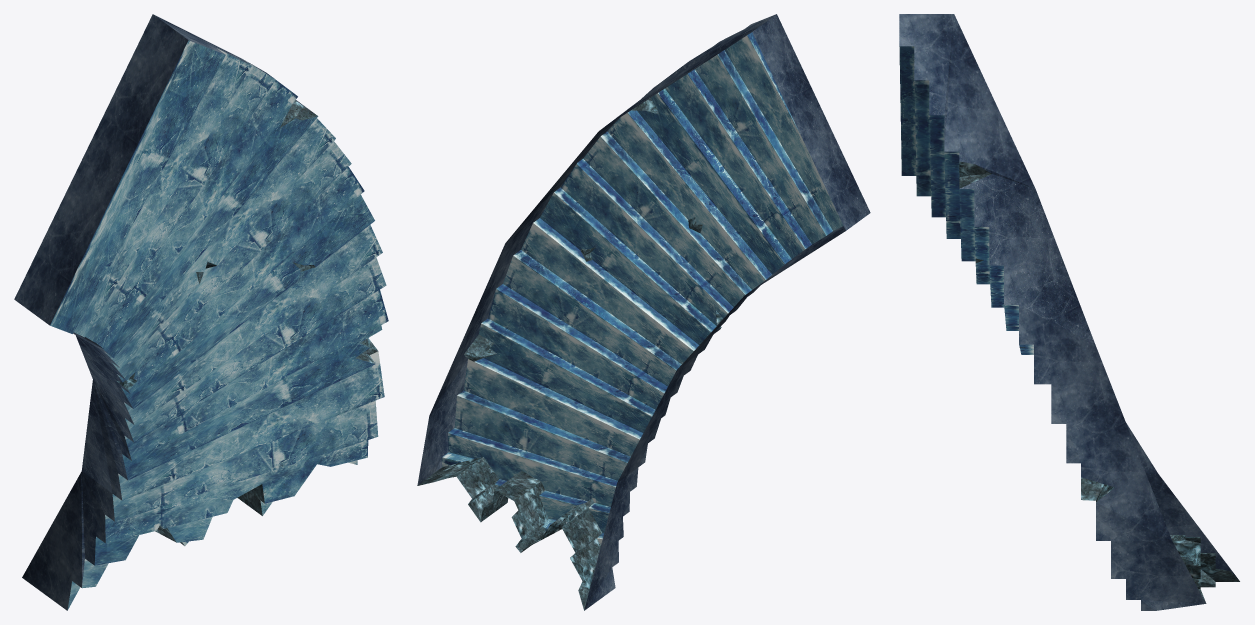
The model's file is juqing_fuben_337_louti01.obj.
3 renders of one model, left to right at view 1: azimuth 30°, elevation 25°; view 2: azimuth 150°, elevation 25°; view 3: azimuth 270°, elevation 25°, orthographic. The views are drawn at different scales.
Visible parts, largest first — view 1: juqing_fuben_337_louti01; view 2: juqing_fuben_337_louti01; view 3: juqing_fuben_337_louti01.
Part boxes in pixels (x1,y1,x2,y2): juqing_fuben_337_louti01: (14, 14, 388, 610); juqing_fuben_337_louti01: (417, 14, 870, 610); juqing_fuben_337_louti01: (899, 14, 1239, 610).
Size of the model in its own units: 1070 by 1571 by 888.
Materials: 3 (3 with a texture image).
